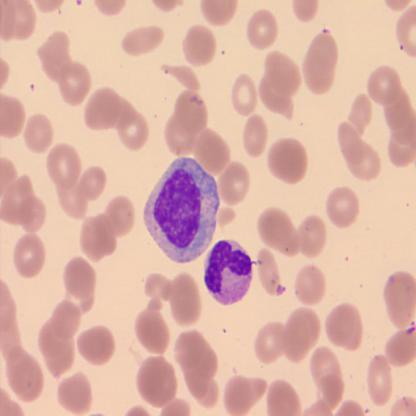Metamyelocyte: (141, 155, 222, 265)
